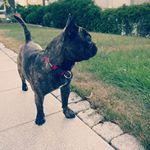puppy: (11, 10, 100, 129)
